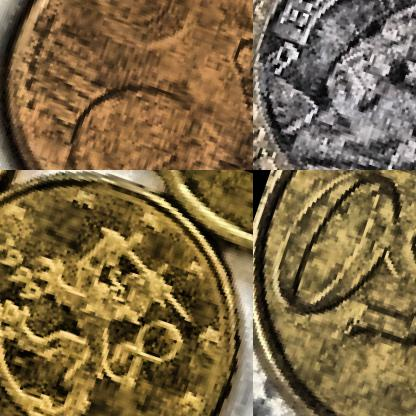coin: (0, 170, 252, 415), (0, 0, 252, 169), (253, 170, 415, 415), (253, 0, 415, 169)
